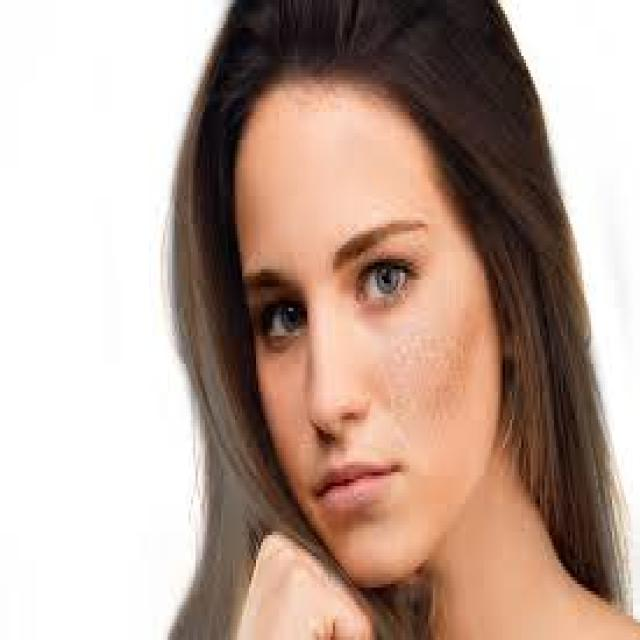pigmentation: (406, 338, 482, 389)
